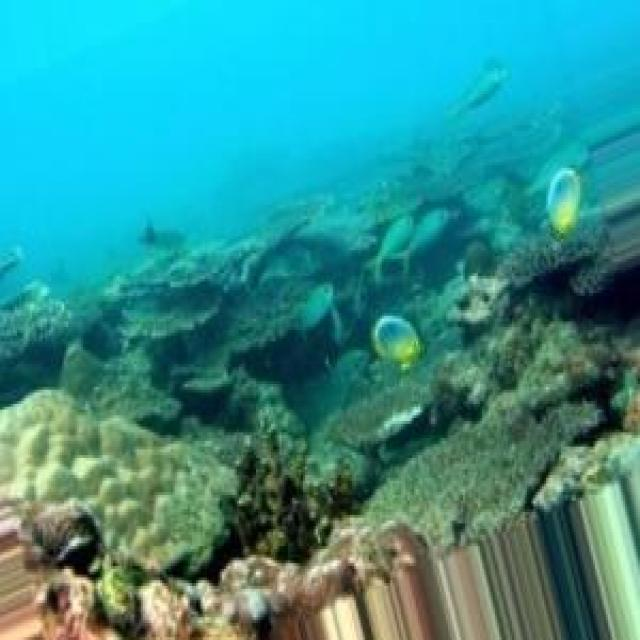bleached coral: (0, 393, 222, 563)
healthy coral: (265, 171, 604, 341), (66, 279, 213, 361)
